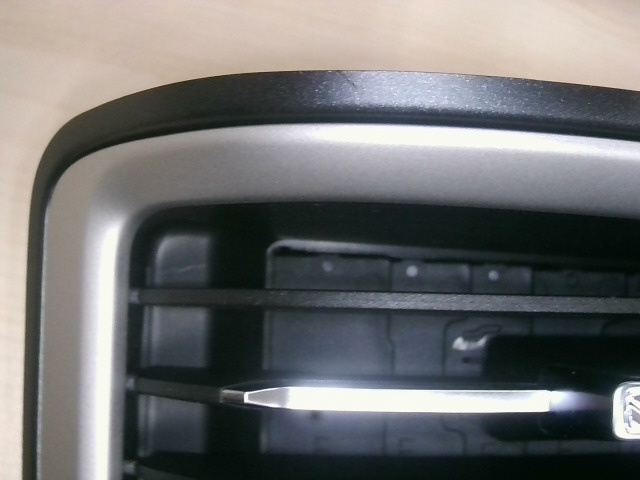NG: (323, 63, 379, 114)
